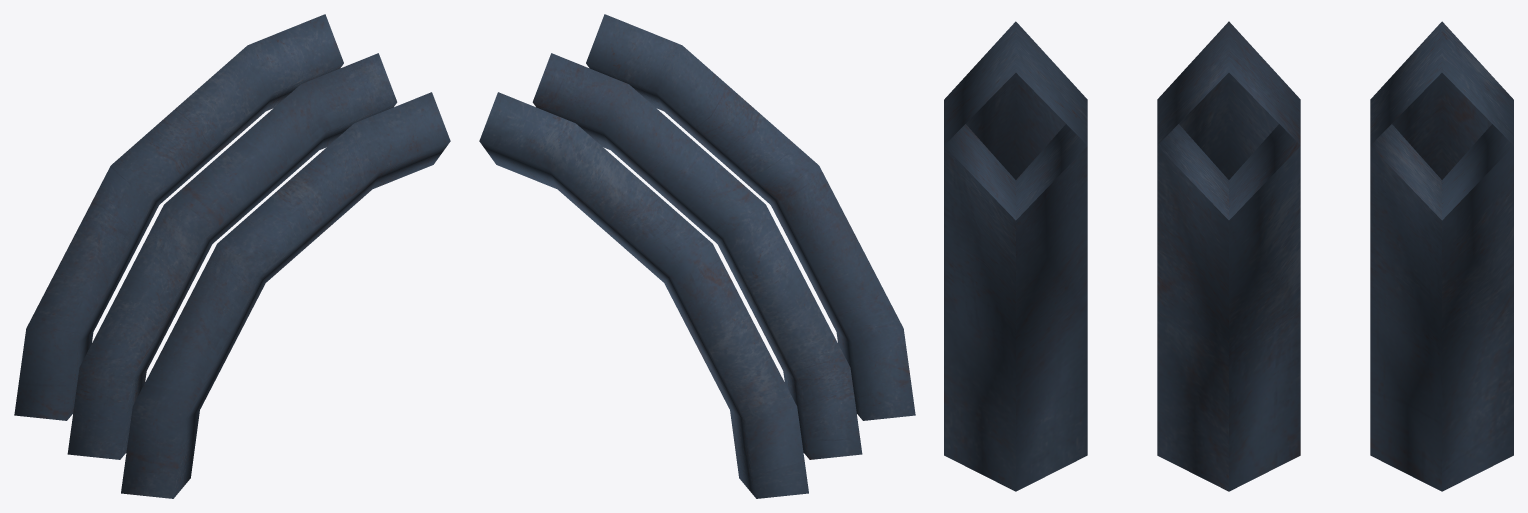
Rendered from Pipe3_Courner3_L2.fbx.
3 views of the same model, side by side, from view 1: azimuth 30°, elevation 25°; view 2: azimuth 150°, elevation 25°; view 3: azimuth 270°, elevation 25° (orthographic). The views are drawn at different scales.
Visible parts, largest first — view 1: PIpe3_Courner3_L2; view 2: PIpe3_Courner3_L2; view 3: PIpe3_Courner3_L2.
Part boxes in pixels (x1,y1,x2,y2): PIpe3_Courner3_L2: [14, 14, 450, 498]; PIpe3_Courner3_L2: [479, 14, 915, 498]; PIpe3_Courner3_L2: [944, 21, 1513, 491].
Size of the model in its own units: 56.47 by 56.47 by 44.55.
